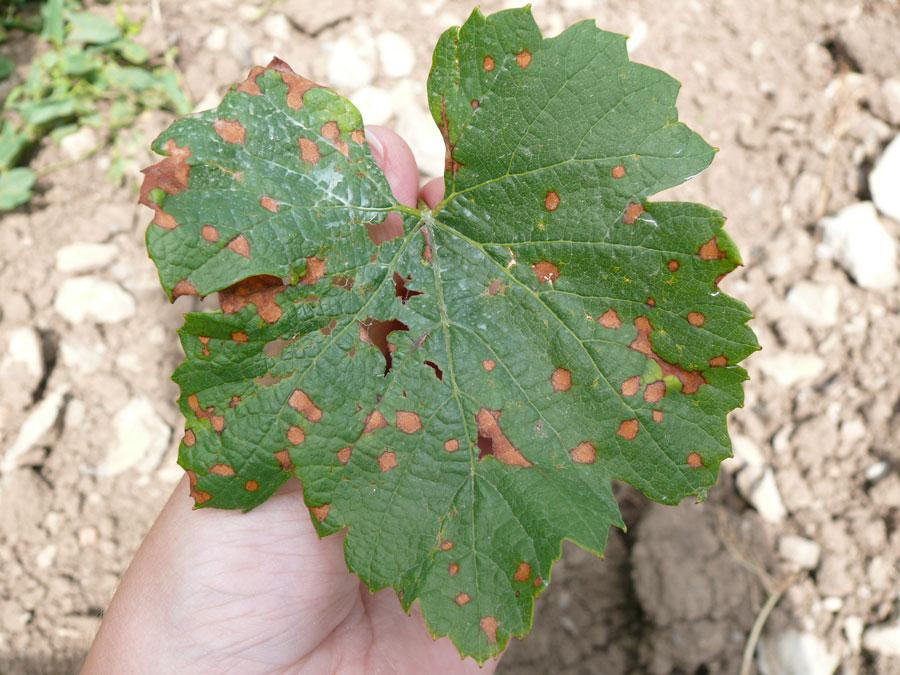grape leaf: (152, 4, 753, 652)
